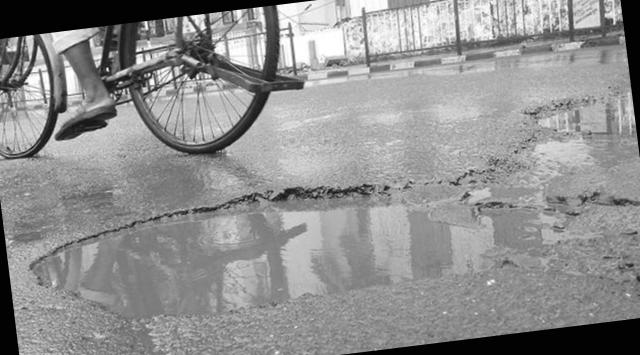Pothole: (1, 126, 640, 355), (503, 44, 636, 140)
